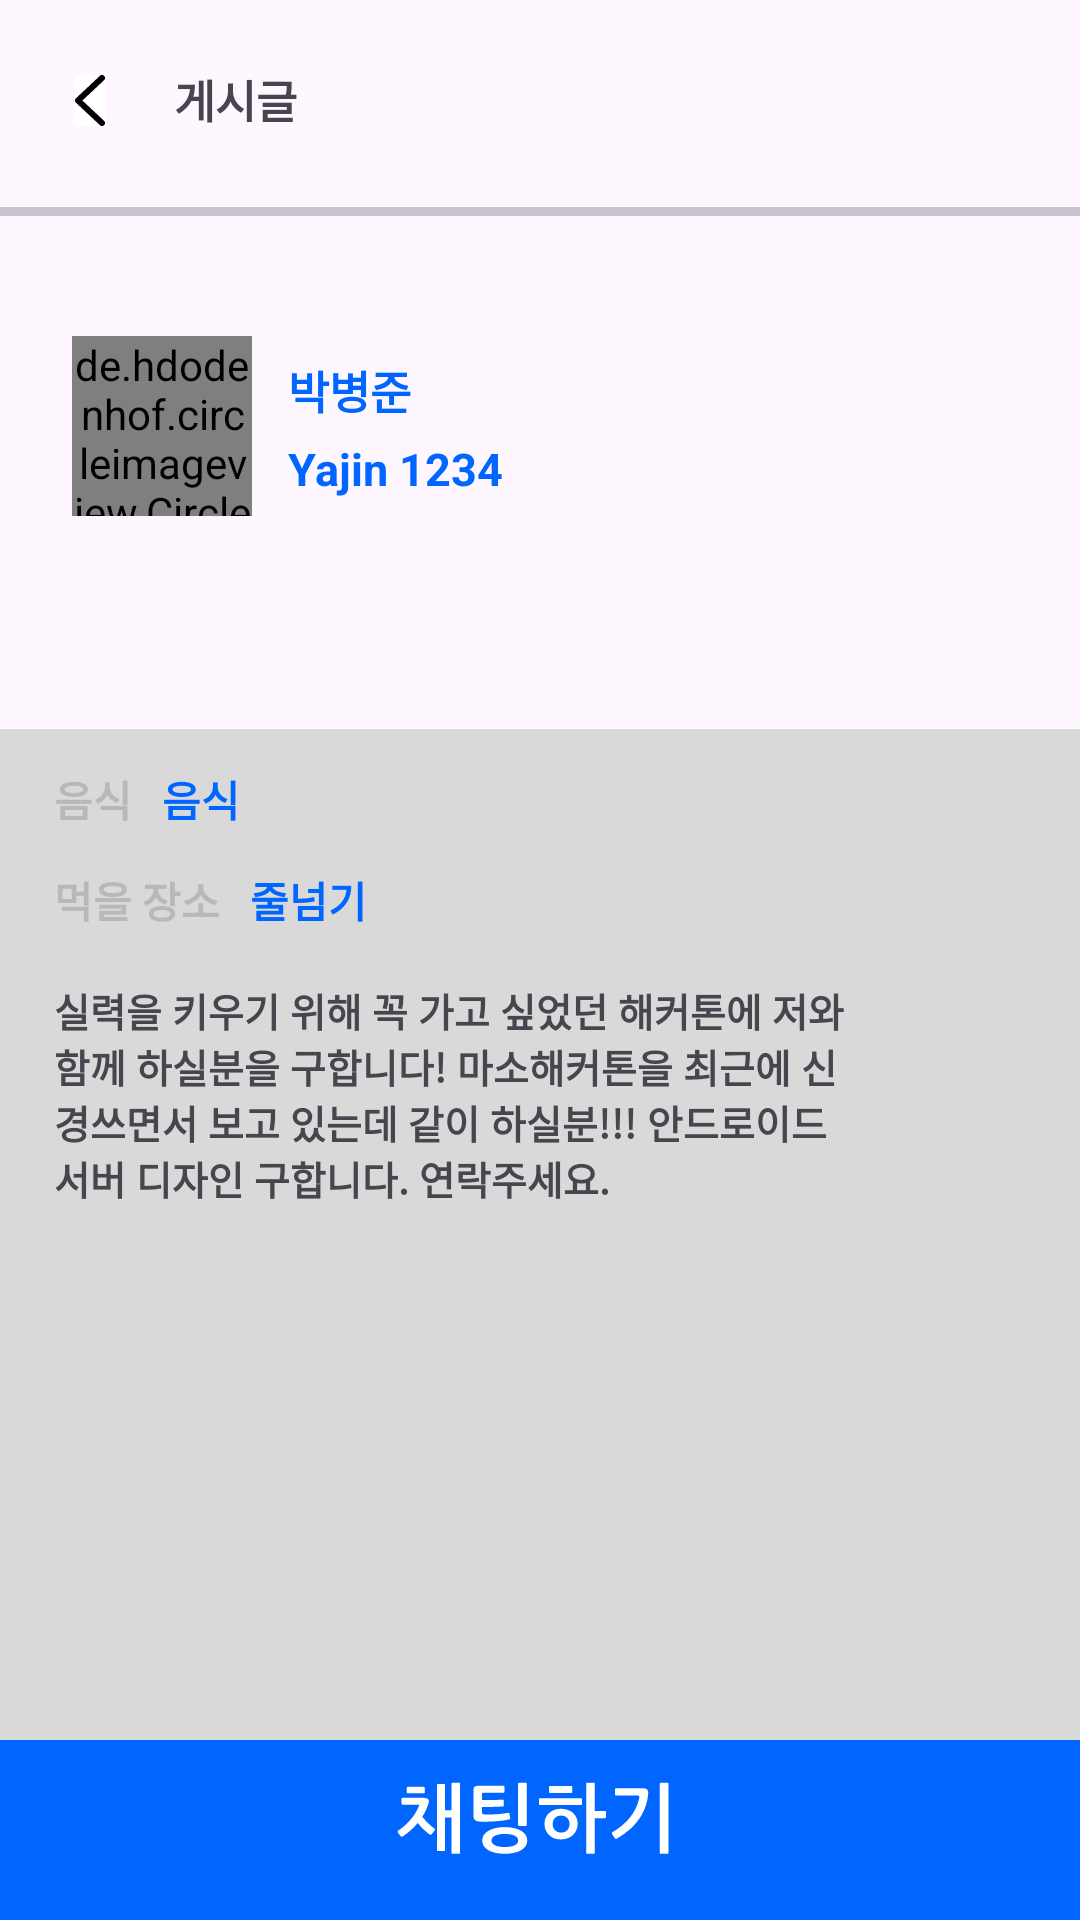

Icons on this 1080w x 1920h Android screen, each with the point to tap as point (x, y):
back: point (90, 100)
